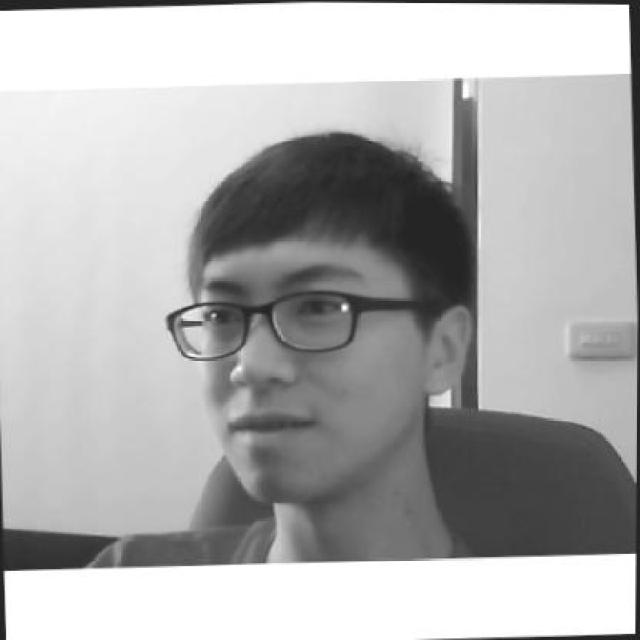attentif: (159, 123, 481, 505)
